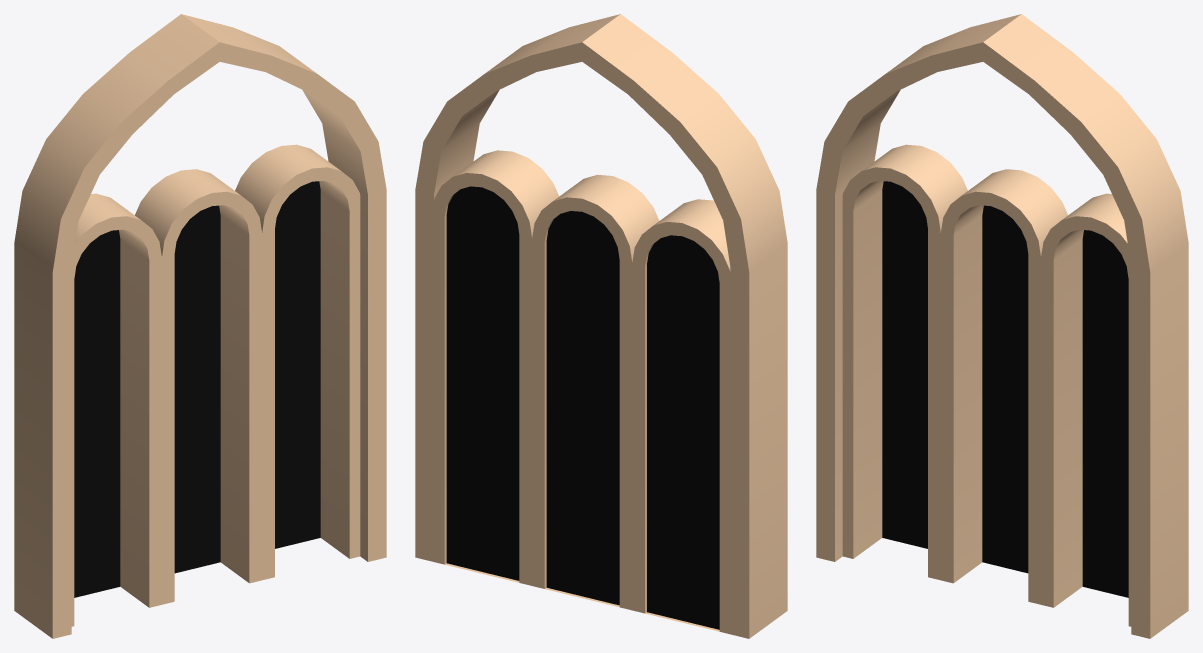
Rendered from Pointed Arch.fbx.
The picture shows the model from 3 angles, left to right: view 1: azimuth 30°, elevation 25°; view 2: azimuth 150°, elevation 25°; view 3: azimuth 330°, elevation 25°; orthographic projection.
Parts seen in each view (by area): view 1: arches.002, Pointed Arch; view 2: arches.002, Pointed Arch; view 3: arches.002, Pointed Arch.
Boxes of the visible parts, x1,y1,x2,y2 form: arches.002: (71,144,360,626); Pointed Arch: (14,14,386,638); arches.002: (434,150,730,634); Pointed Arch: (415,14,787,638); arches.002: (842,144,1131,626); Pointed Arch: (816,14,1188,638).
Bounding box in the file's own units: 5 × 7.95 × 1.
